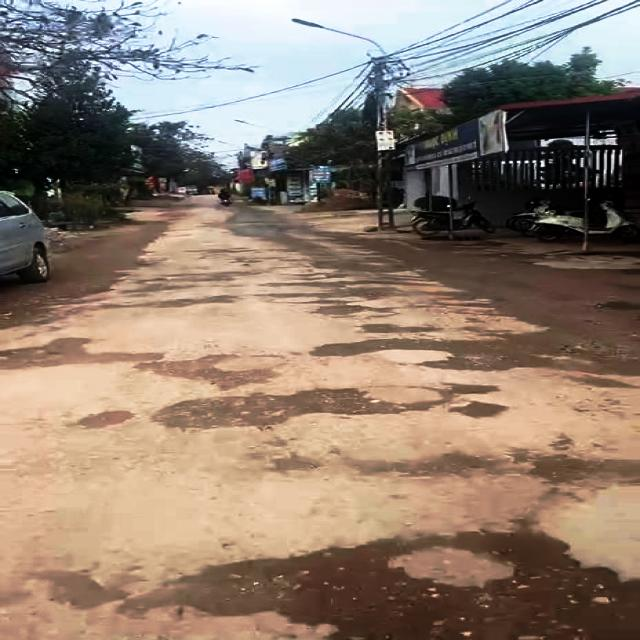pothole: (116, 517, 640, 640), (152, 388, 459, 433), (386, 450, 640, 496), (304, 332, 536, 373), (135, 352, 287, 393), (0, 337, 175, 371), (262, 286, 397, 317), (547, 335, 640, 372), (96, 294, 235, 312), (360, 320, 436, 337), (587, 299, 640, 314)
